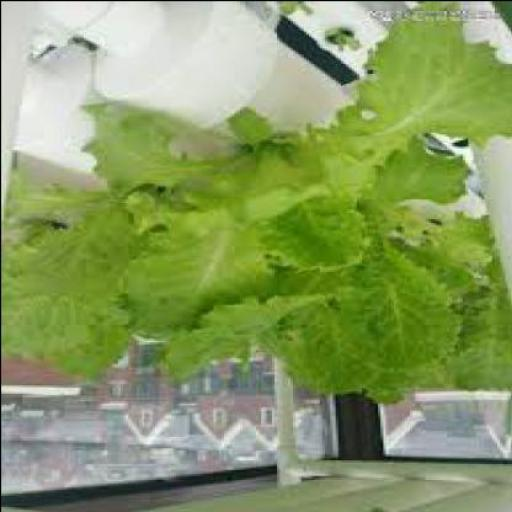biodegradable: (1, 1, 510, 379), (276, 218, 510, 406)
